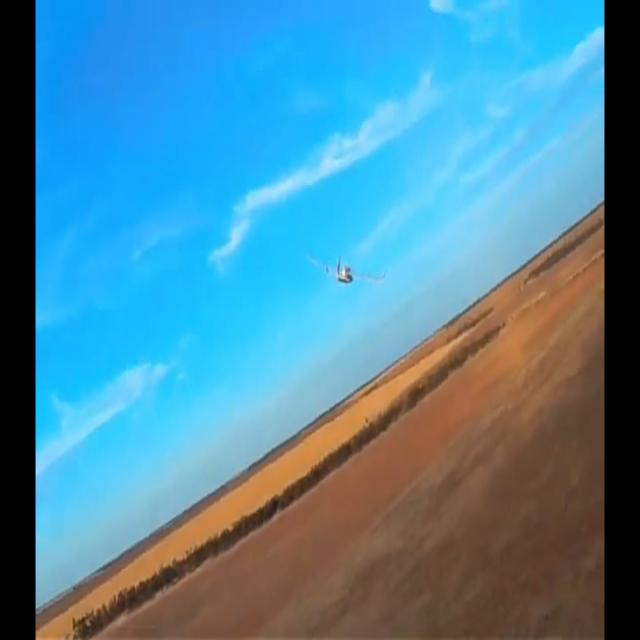iha: (338, 242, 356, 279)
